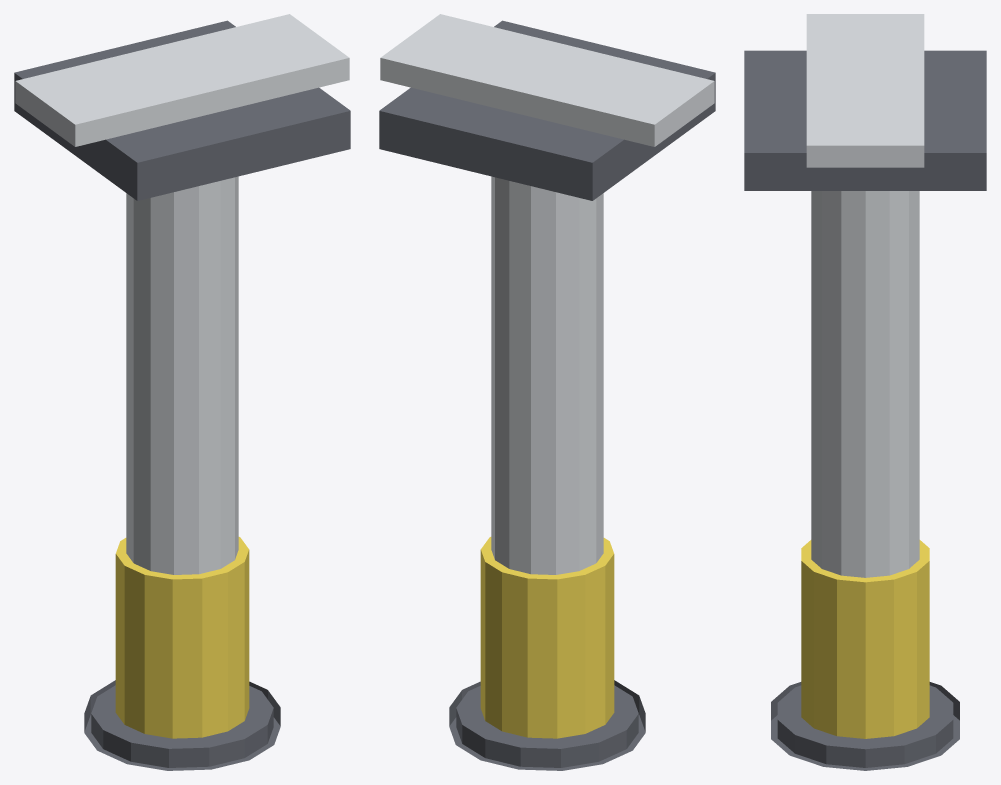
File: theme-park-rides-and-coasters-theme-park-rides-and-coa-eee1d5fb__28634.glb
The picture shows the model from 3 angles, left to right: view 1: azimuth 30°, elevation 25°; view 2: azimuth 150°, elevation 25°; view 3: azimuth 270°, elevation 25°; orthographic projection.
Parts seen in each view (by area): view 1: theme-park-rides-and-coasters-support-column-2m; view 2: theme-park-rides-and-coasters-support-column-2m; view 3: theme-park-rides-and-coasters-support-column-2m.
Part boxes in pixels (x1,y1,x2,y2): theme-park-rides-and-coasters-support-column-2m: (14,14,350,770); theme-park-rides-and-coasters-support-column-2m: (379,14,715,770); theme-park-rides-and-coasters-support-column-2m: (744,14,986,770).
Size of the model in its own units: 0.9001 by 2.07 by 0.7.
